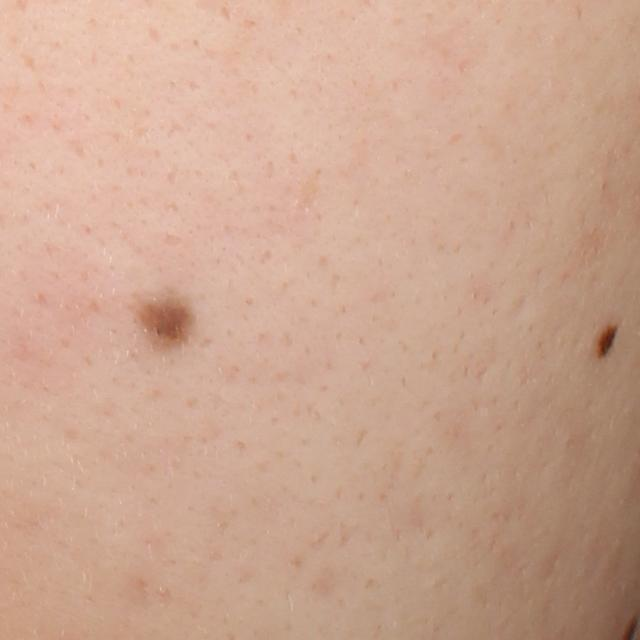nevus: (124, 283, 203, 354), (595, 320, 624, 370)
